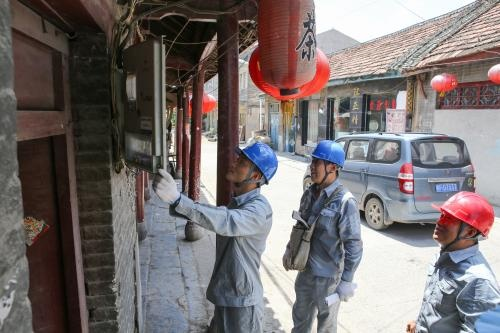blue: (229, 141, 275, 192), (307, 141, 346, 189)
red: (430, 189, 494, 256)
